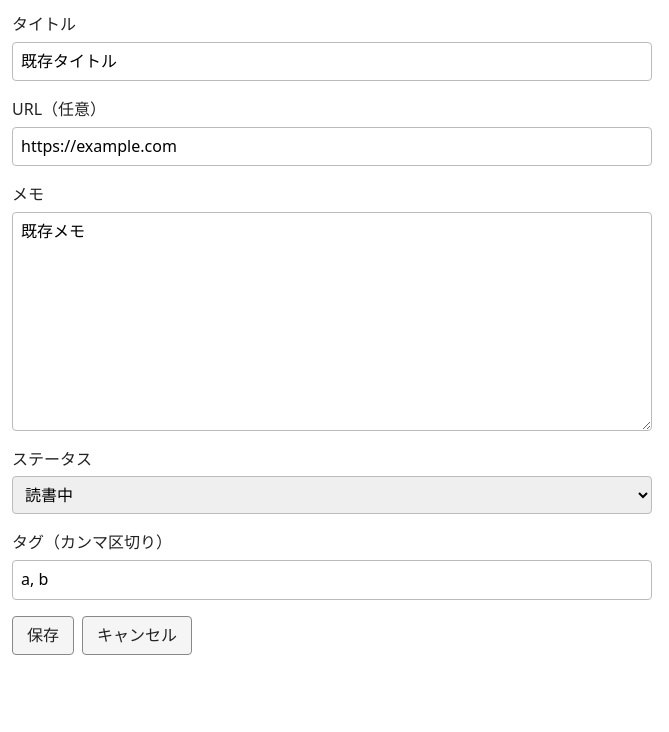
Scenario: API の 422 エラーをフォーム上部に表示する
The width and height of the screenshot is (669, 732).
Click the button "保存".
click(43, 635)  # box [12,616,74,655]
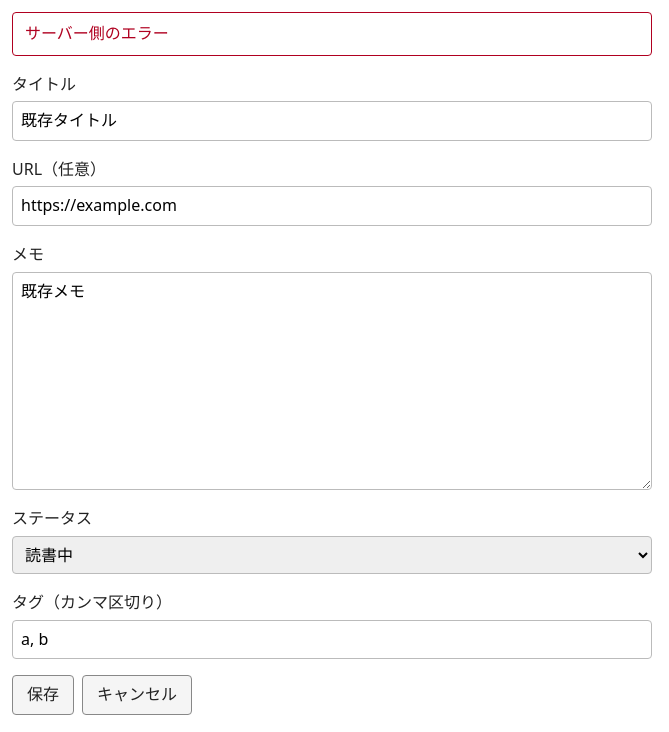
Expected: the button "保存" is enabled, [12,675,74,715]
Expected: the message reads "サーバー側のエラー", [25,22,169,44]
